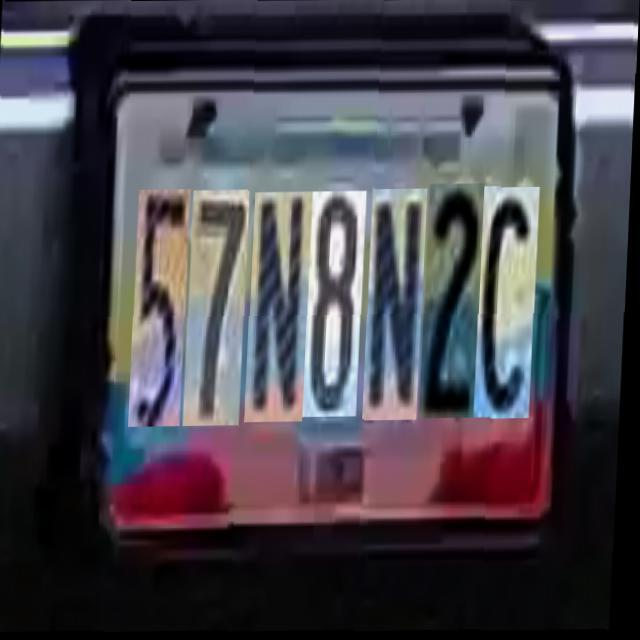2: (423, 180, 486, 416)
5: (132, 188, 192, 426)
7: (187, 190, 250, 426)
8: (306, 189, 368, 415)
C: (478, 182, 542, 414)
N: (248, 190, 314, 420), (366, 185, 429, 418)
